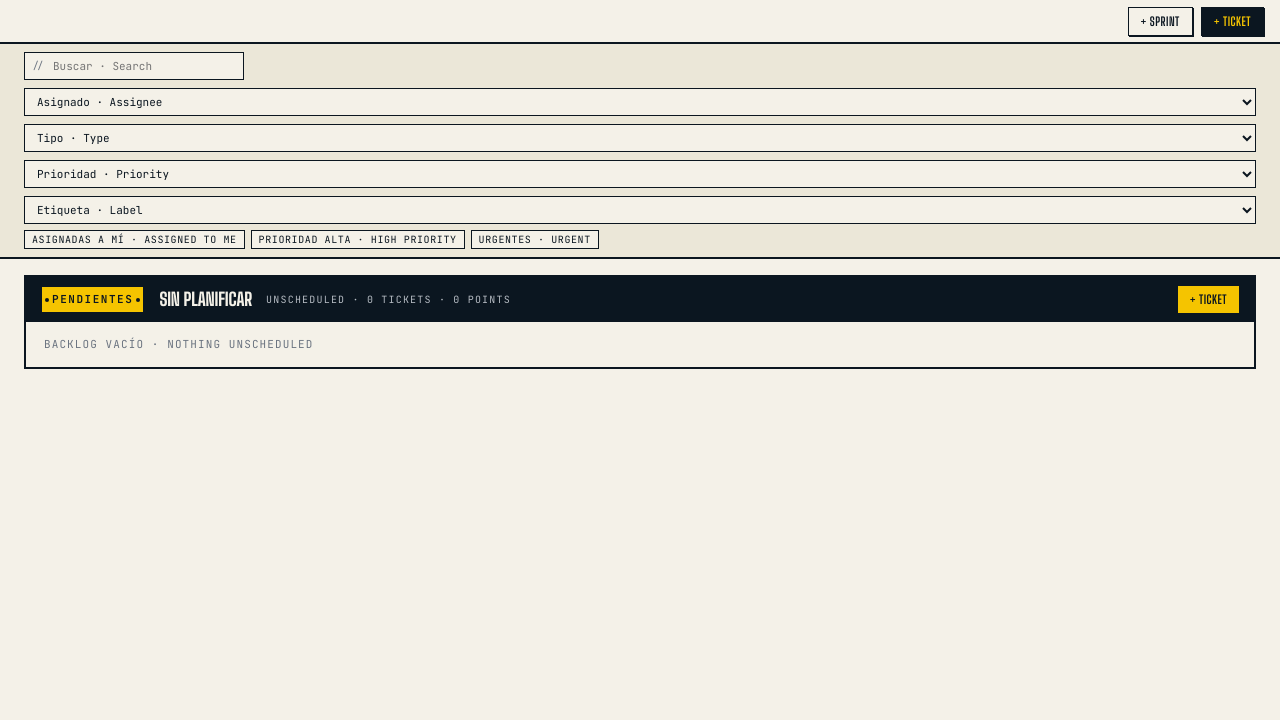
Test: BacklogPage › shows an inline error when Create Sprint fails
Check: the text "PENDIENTES" is shown, box [40,285,145,314]
Click the button "+ Sprint".
click(1160, 21)  # box [1128,6,1193,36]
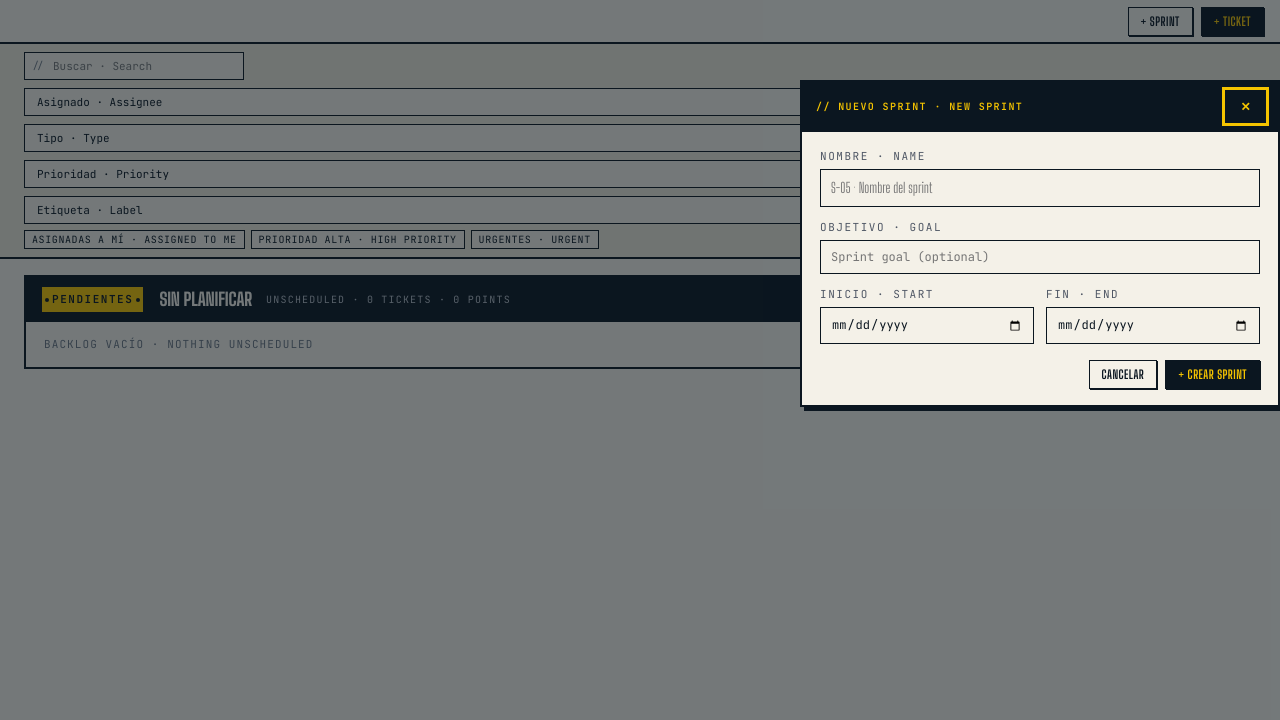
Check: the text "// NUEVO SPRINT · NEW SPRINT" is shown, box [816,99,1023,114]
Type "S-09" into the field with placeholder "S-05 · Nombre del sprint".
click(1040, 188); type("S-09")  # box [820,169,1260,207]
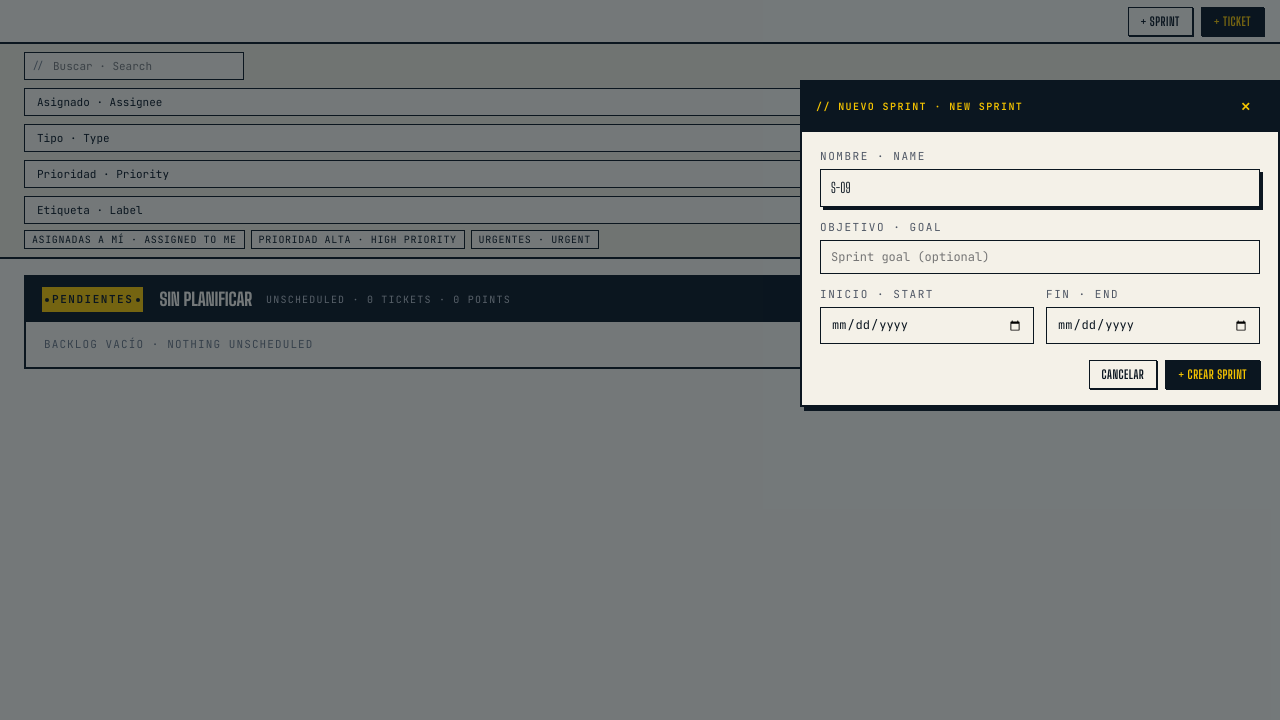
Click the button "+ Crear sprint".
click(1213, 374)  # box [1165,360,1260,389]
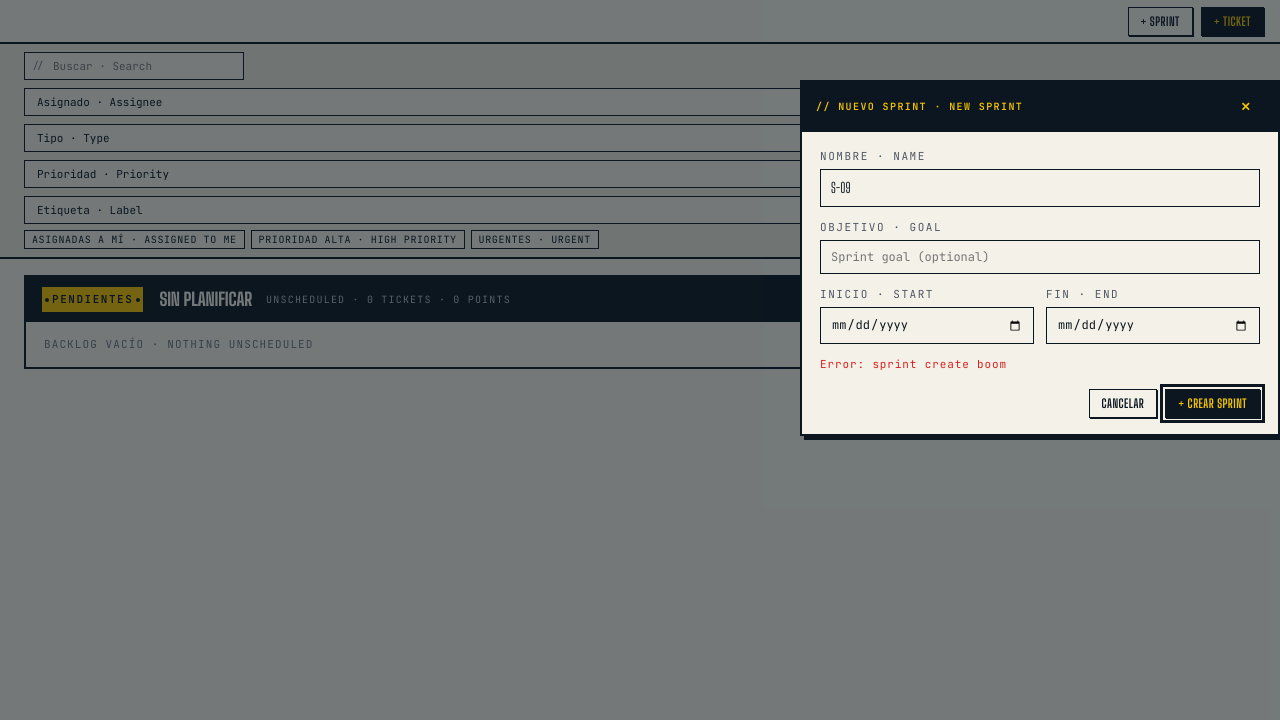
Check: the text "// NUEVO SPRINT · NEW SPRINT" is shown, box [816,99,1023,114]
Check: the text "Error: sprint create boom" is shown, box [820,357,1007,371]
